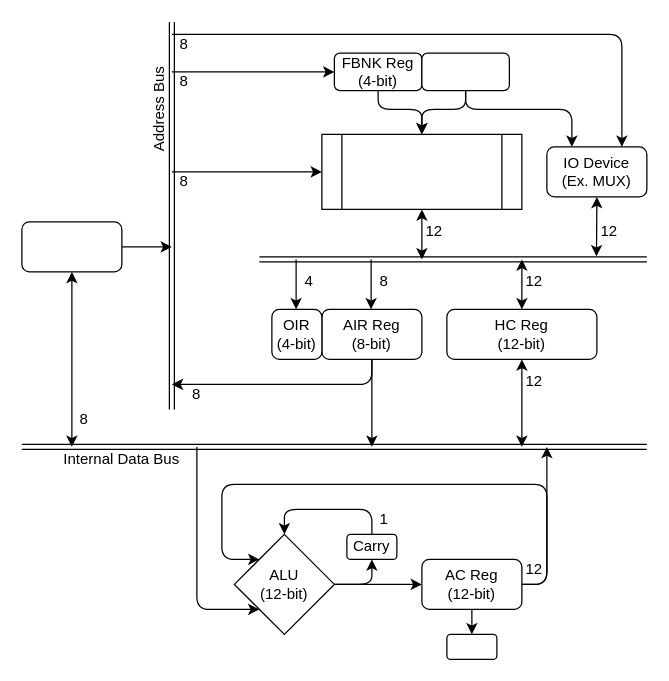
Image size: 669x681. Some labels were removed from this diagram. Here are the shapes that lost their labels. From the top down, the centre of each, then its label:
At (465,71): "EBNK Reg (4-bit)".
At (421,171): "Memory 16 banks 12-bit words 256 words / bank".
At (71,246): "PC Reg".
At (471,646): "Zero".
